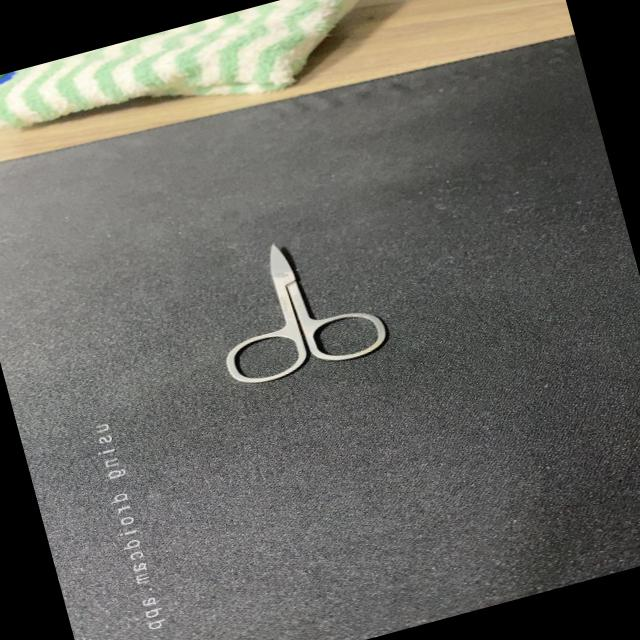scissor: (194, 212, 397, 395)
